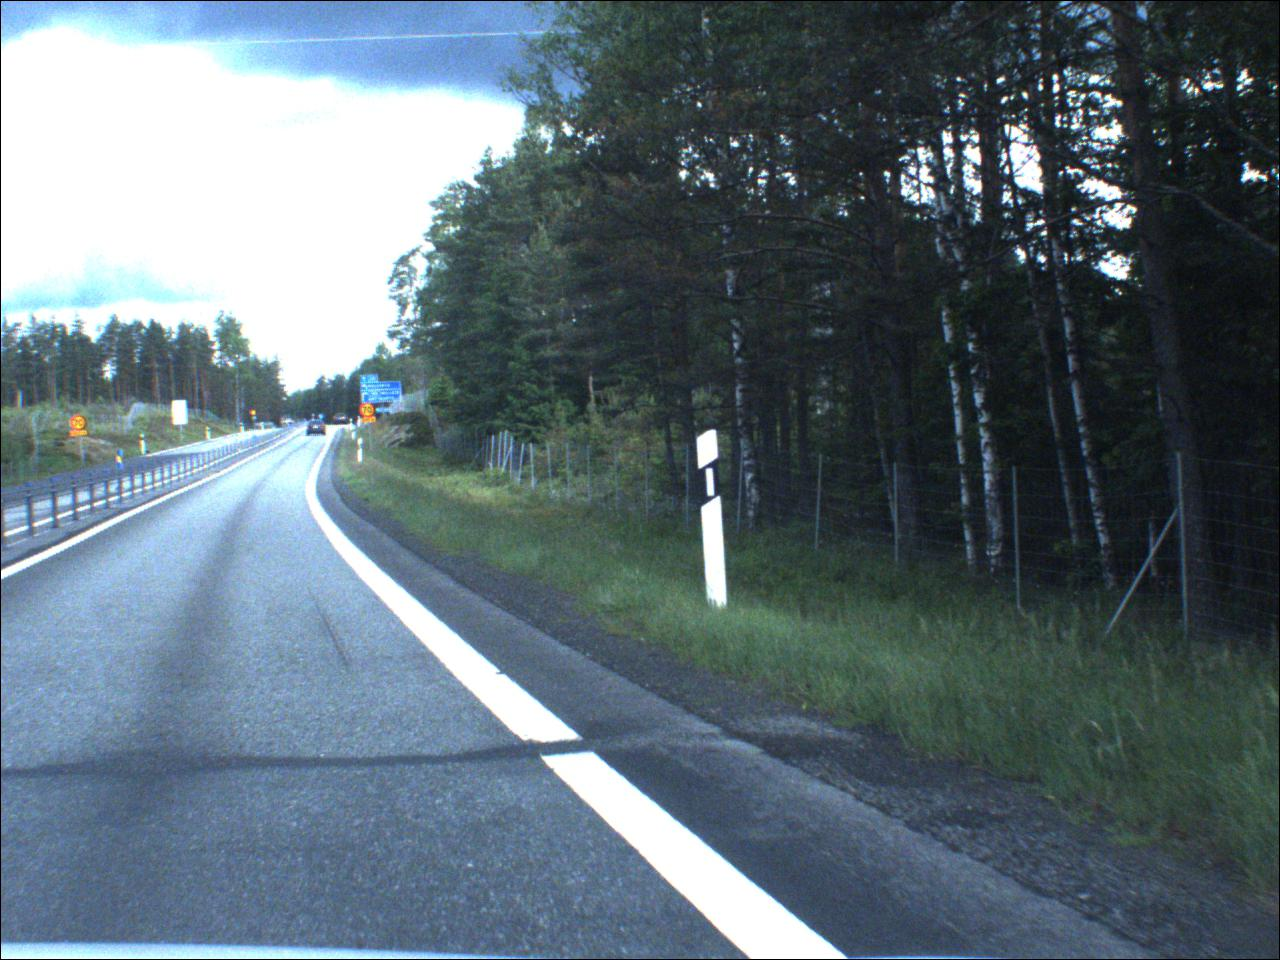70_SIGN: (361, 403, 378, 419), (72, 417, 89, 433), (251, 411, 259, 418)
